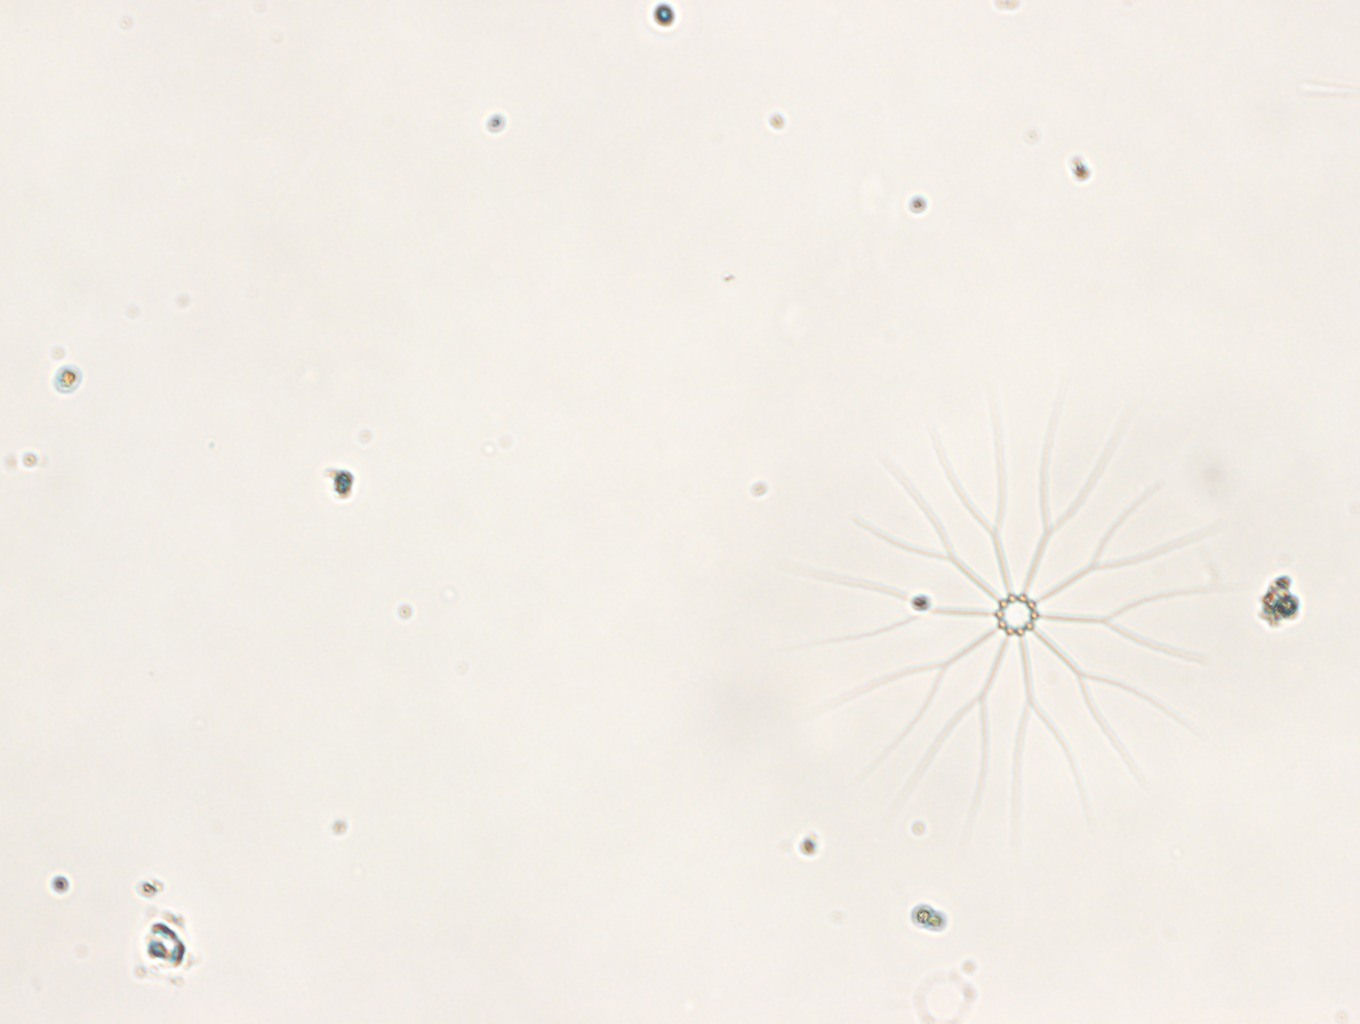bacteriastrum: (796, 400, 1251, 822)
